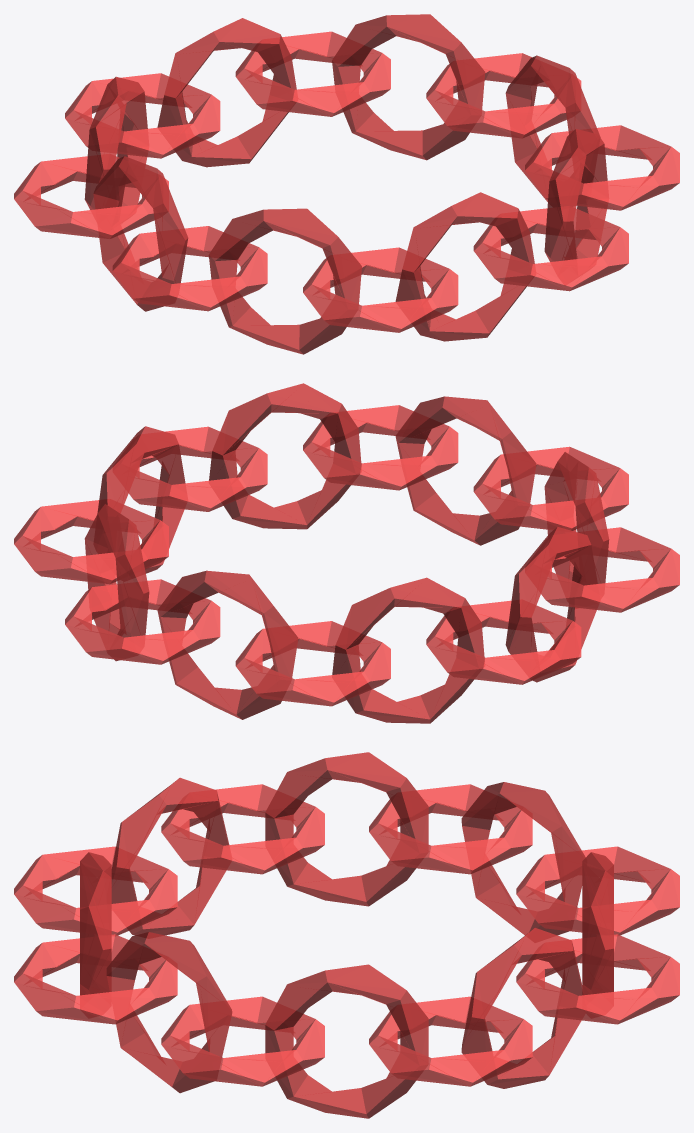
The model's file is fractalhexagonaltrapezohedrontoroid1.glb.
3 renders of one model, top to bottom at view 1: azimuth 30°, elevation 25°; view 2: azimuth 150°, elevation 25°; view 3: azimuth 270°, elevation 25°, orthographic. The views are drawn at different scales.
Bounding box in the file's own units: 10.61 × 2.61 × 10.61.
